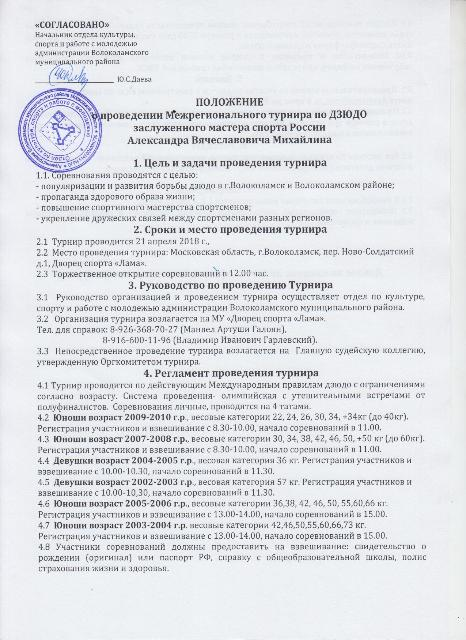stamp: (17, 86, 102, 174)
